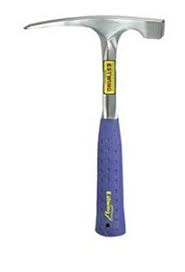hammer: (22, 14, 165, 238)
